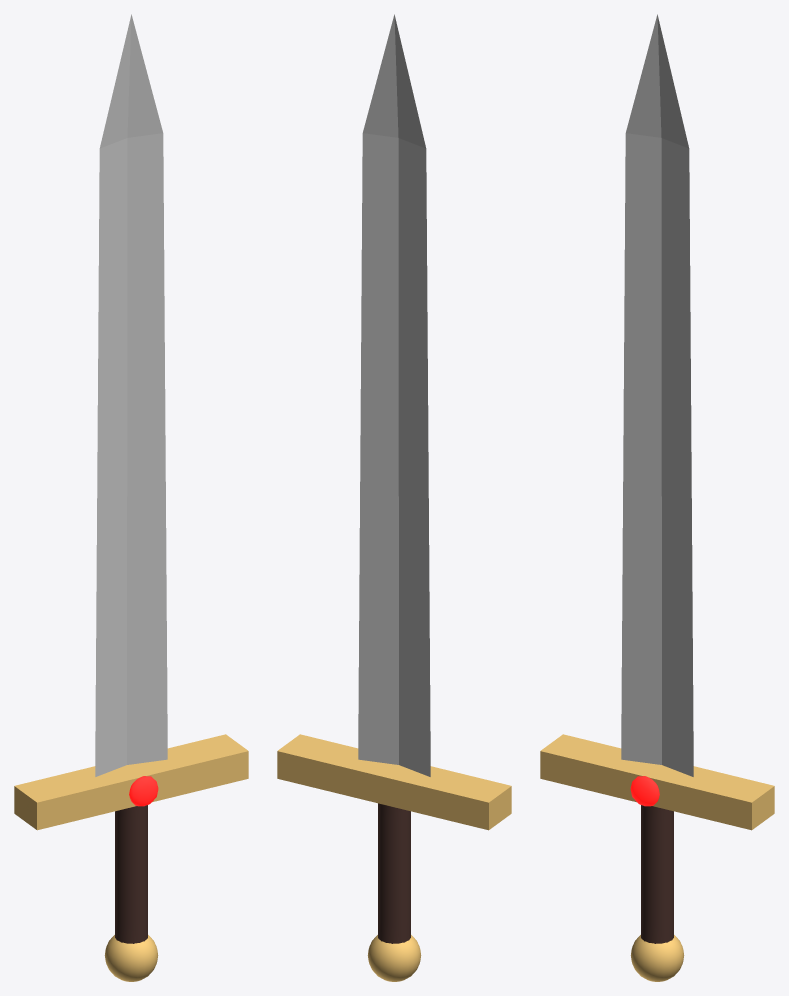
The model's file is sword.glb.
3 renders of one model, left to right at view 1: azimuth 30°, elevation 25°; view 2: azimuth 150°, elevation 25°; view 3: azimuth 330°, elevation 25°, orthographic.
Visible parts, largest first — view 1: Blade, Guard, Grip, Pommel, Gem; view 2: Blade, Guard, Grip, Pommel; view 3: Blade, Guard, Grip, Pommel, Gem.
Boxes of the visible parts, <box> form: Blade: <box>95,14,167,776</box>; Guard: <box>14,734,248,830</box>; Grip: <box>115,805,147,943</box>; Pommel: <box>104,935,158,981</box>; Gem: <box>129,776,158,806</box>; Blade: <box>358,14,430,776</box>; Guard: <box>277,734,511,830</box>; Grip: <box>378,803,410,943</box>; Pommel: <box>367,935,421,981</box>; Blade: <box>621,14,693,776</box>; Guard: <box>540,734,774,830</box>; Grip: <box>641,805,673,943</box>; Pommel: <box>630,935,684,981</box>; Gem: <box>630,776,659,806</box>.
Bounding box in the file's own units: 0.32 × 1.4 × 0.078.
